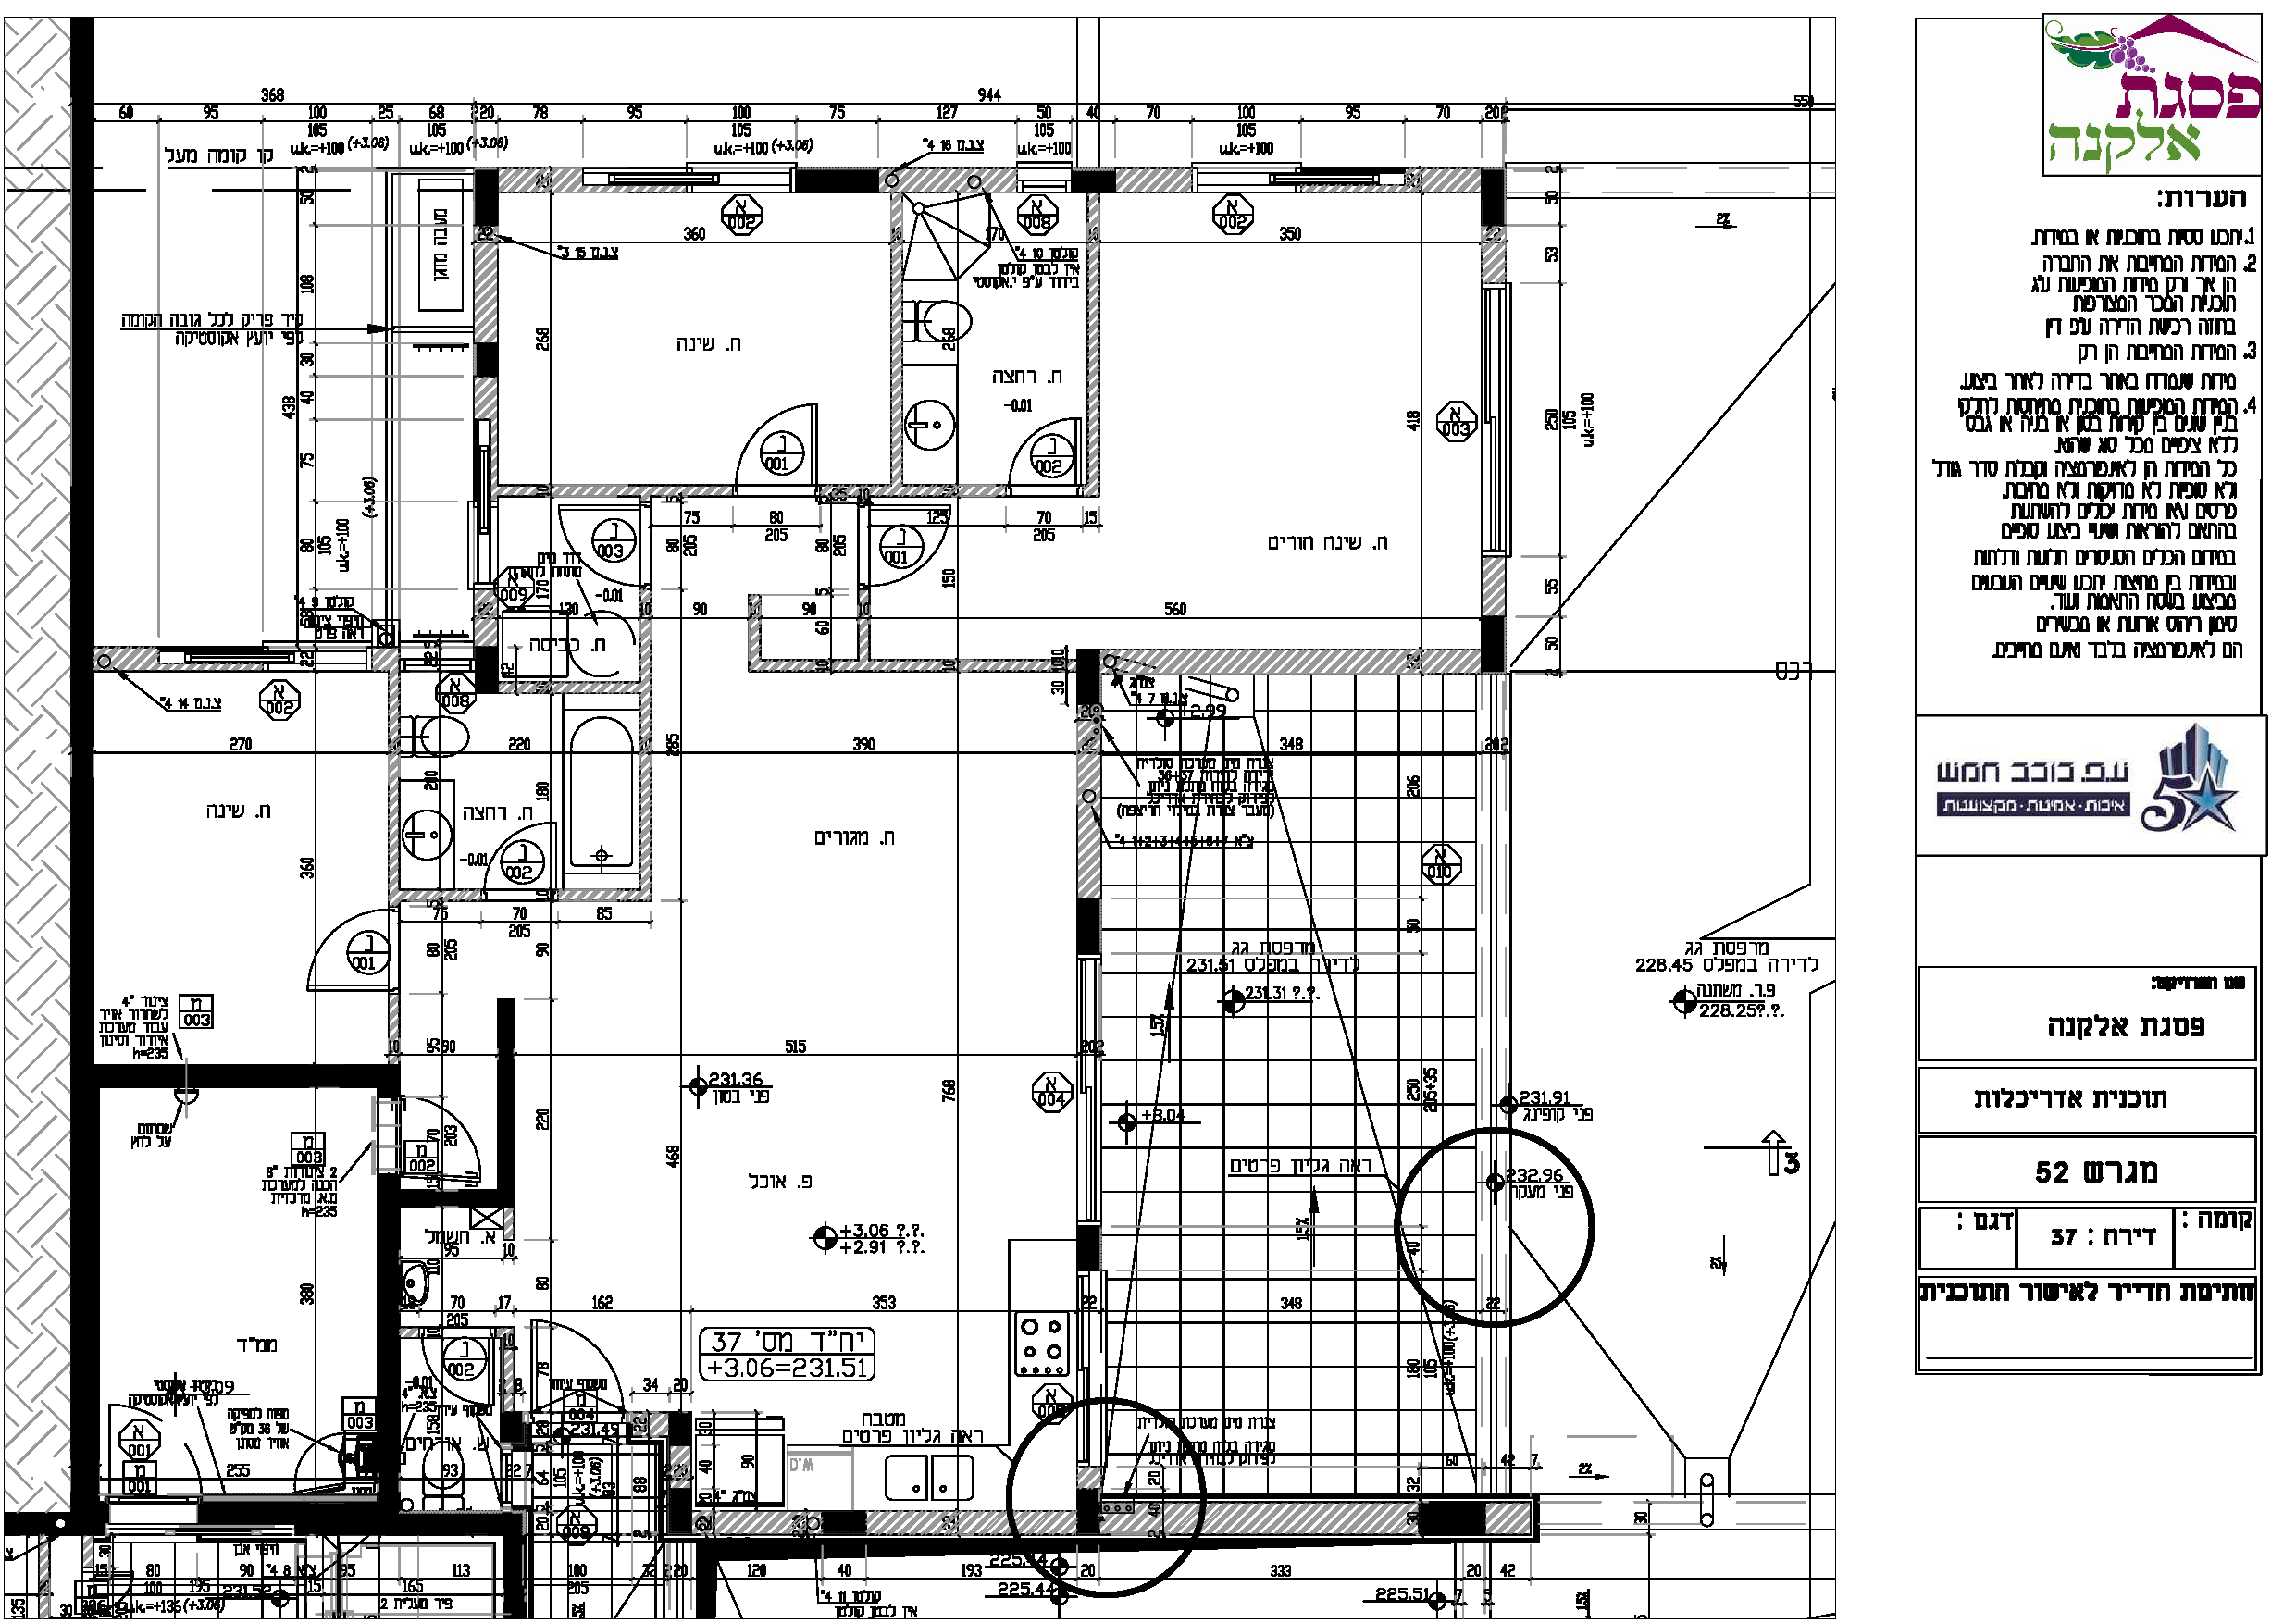wall: (70, 16, 95, 1063), (72, 1089, 98, 1535), (72, 1063, 401, 1089), (376, 1173, 399, 1533)
window: (1479, 283, 1513, 557), (1077, 954, 1103, 1224), (1189, 167, 1405, 184), (581, 167, 791, 184), (473, 418, 492, 587), (1015, 167, 1072, 193)
